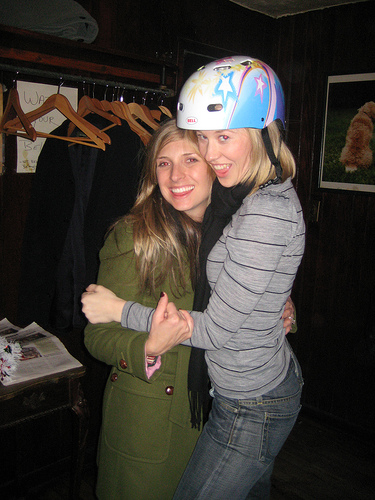helmet: (171, 61, 291, 127)
